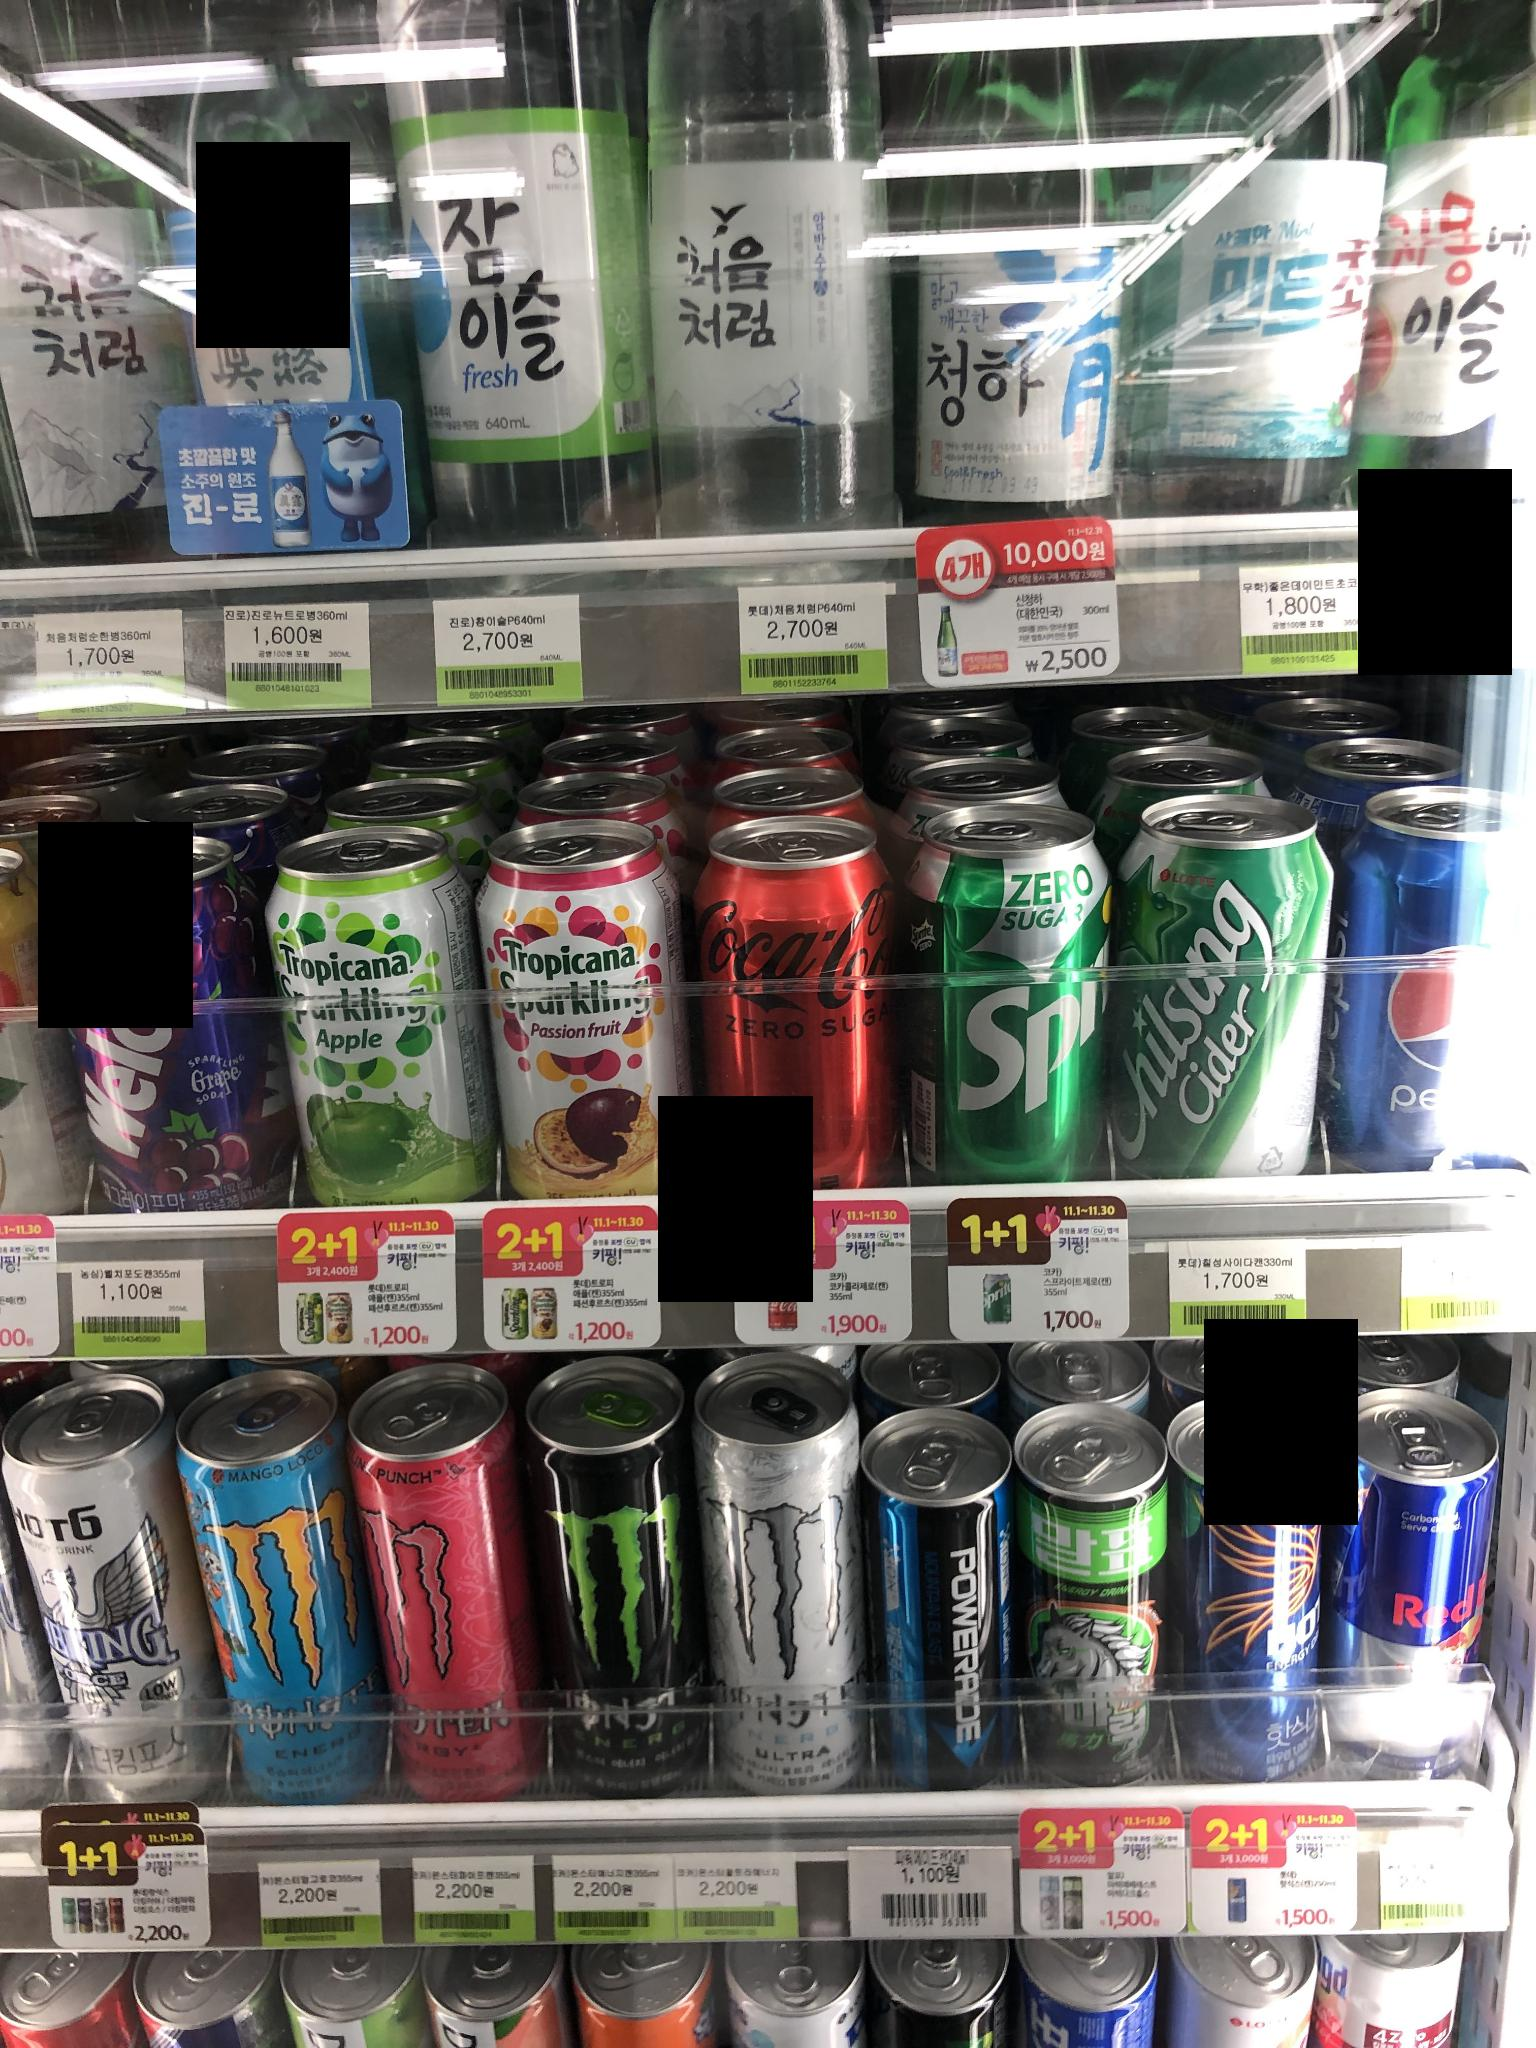chilsungcider: (1139, 787, 1352, 1203)
hotsix_org: (1184, 1408, 1338, 1788)
welchs_grape: (37, 843, 273, 1195)
